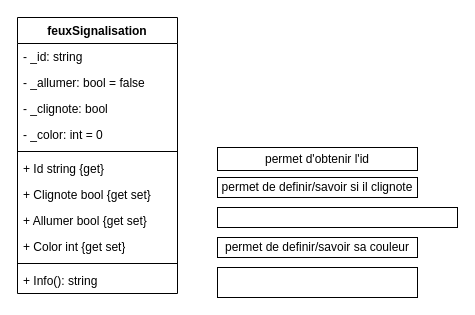
This 475x315 diagram has some shape labels left out. Here are the shapes that lost their labels. From the top down, the centre of each, then its label:
At (337,217): "permet de definir/savoir si il est allumer".
At (317,282): "affiche les infos du feux".
